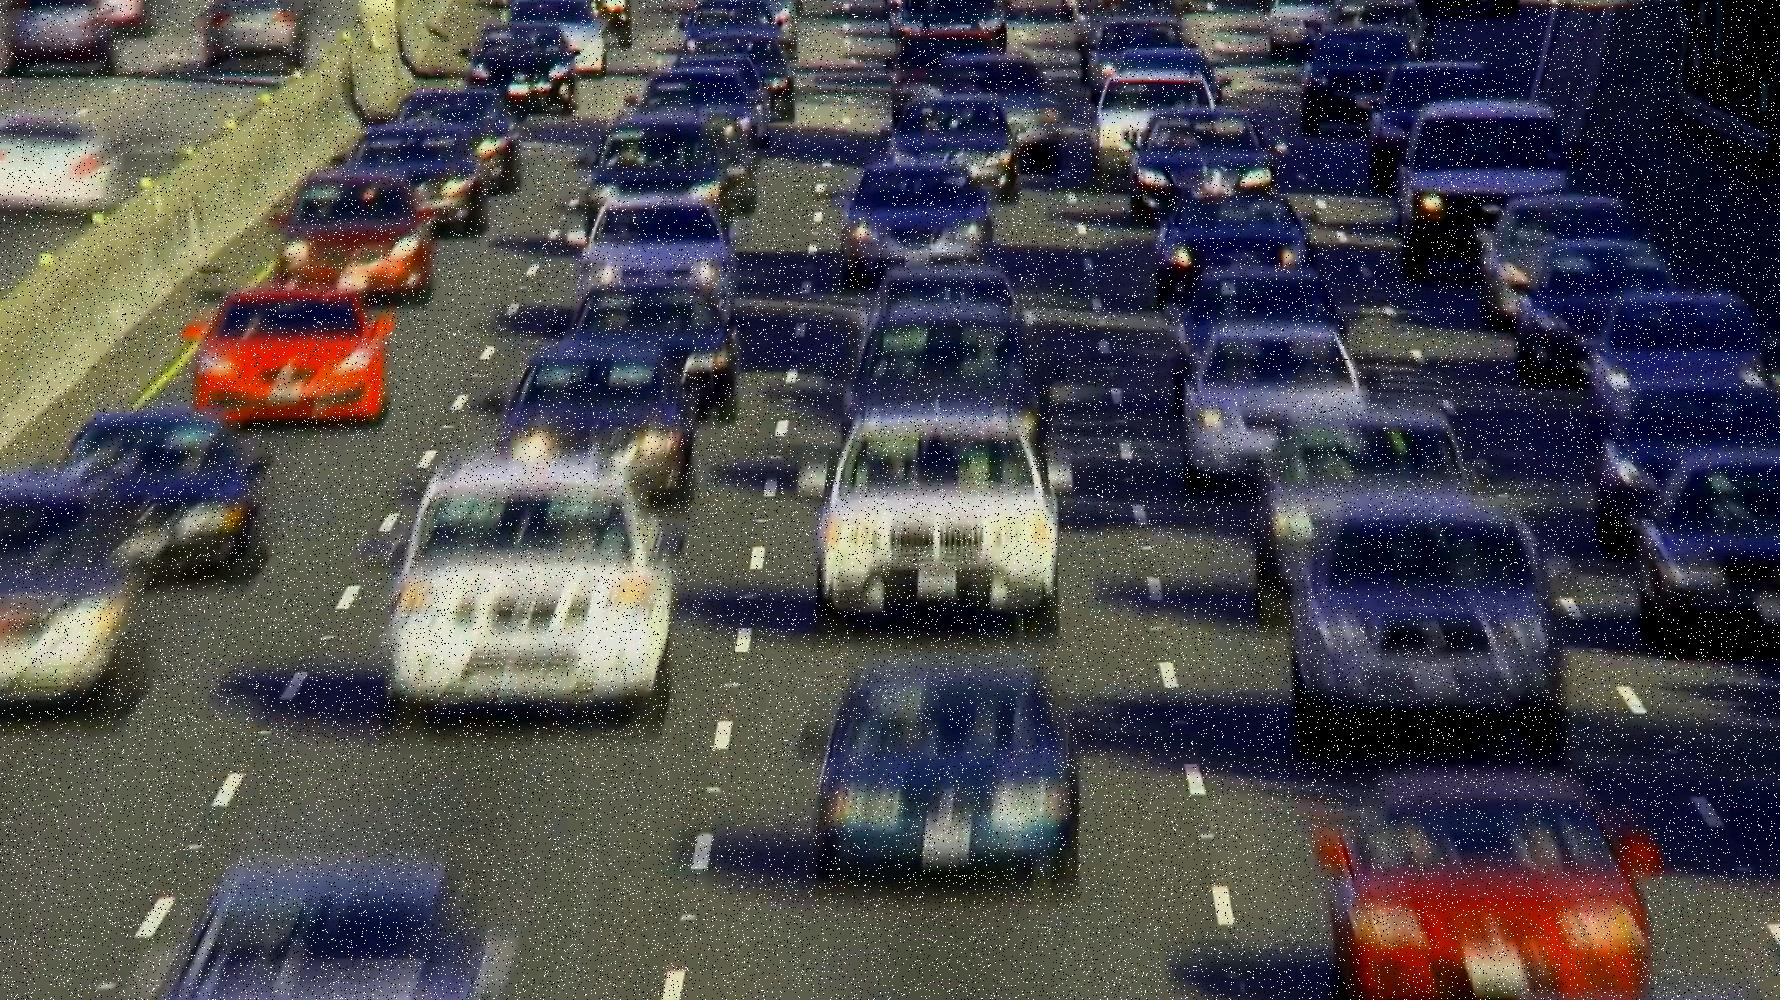car: (0, 112, 131, 218), (200, 0, 307, 65), (1388, 0, 1524, 16)
